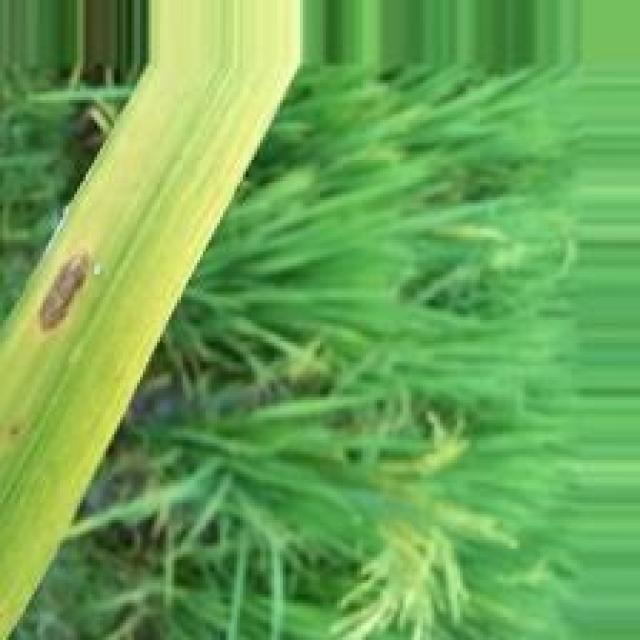Brown_Spot: (36, 244, 106, 333)
